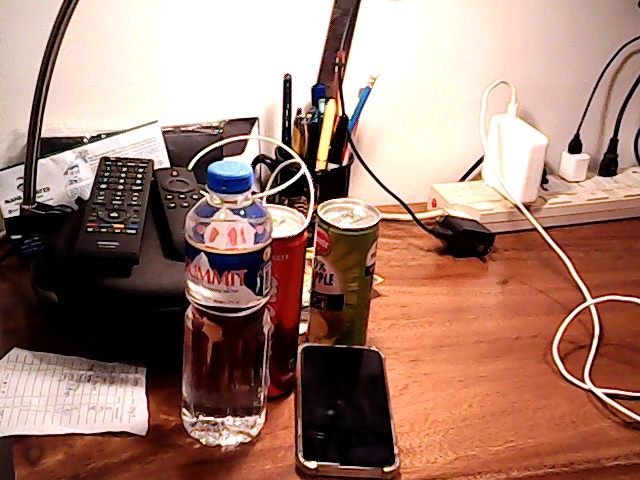Cola: (258, 198, 307, 350)
Pine Juice: (307, 191, 388, 352)
Summit Water: (178, 160, 265, 454)
